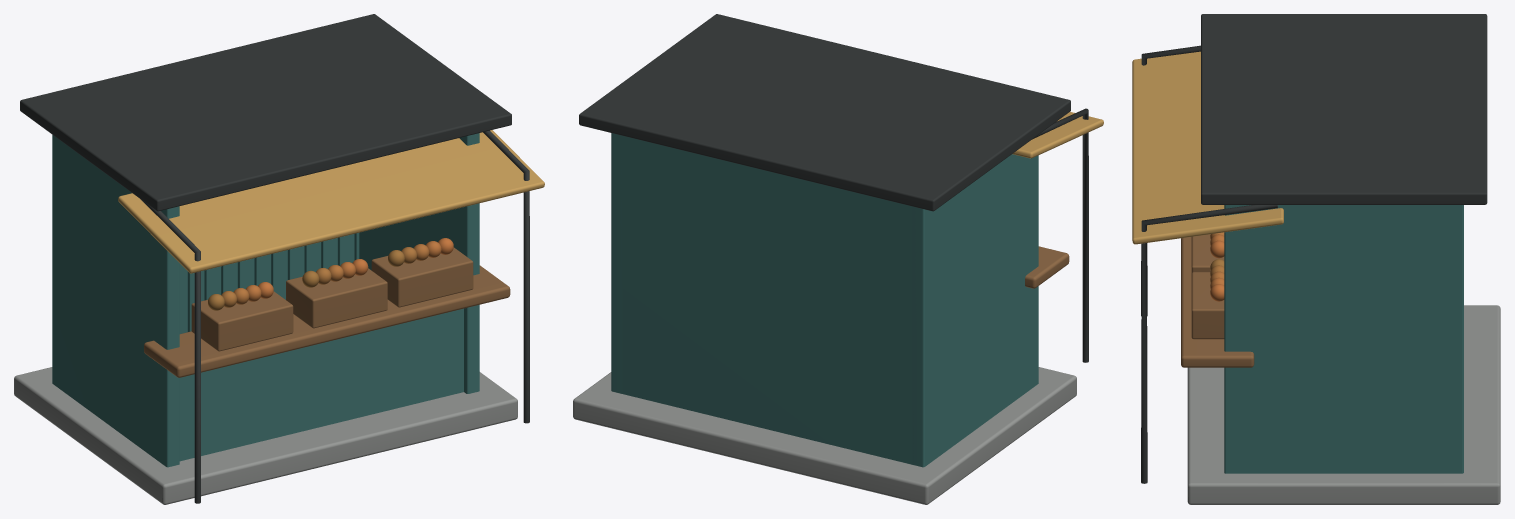
File: lagos-kiosk.glb
3 renders of one model, left to right at view 1: azimuth 30°, elevation 25°; view 2: azimuth 150°, elevation 25°; view 3: azimuth 270°, elevation 25°, orthographic. The views are drawn at different scales.
Visible parts, largest first — view 1: Roof sheet, Kiosk side, Fabric canopy, Front skirt, Kiosk plinth, Service counter, Kiosk side.001, Kiosk rear, Display crate.001, Display crate, Display crate.002, Canopy support (+1 smaller); view 2: Kiosk rear, Roof sheet, Kiosk side, Kiosk plinth, Kiosk side.001, Canopy support, Fabric canopy, Service counter; view 3: Kiosk side.001, Roof sheet, Kiosk plinth, Fabric canopy, Service counter, Canopy support.001, Display crate.002, Display crate.001, Canopy support.
Boxes of the visible parts, x1,y1,x2,y2 form: Roof sheet: (20,14,511,211); Kiosk side: (52,135,179,467); Fabric canopy: (118,130,544,273); Front skirt: (179,308,463,461); Kiosk plinth: (14,367,517,504); Service counter: (144,265,510,377); Kiosk side.001: (359,133,479,393); Kiosk rear: (179,233,359,333); Display crate.001: (286,268,387,328); Display crate: (191,291,293,351); Display crate.002: (371,247,473,307); Canopy support: (140,199,200,503); Kiosk rear: (613,133,921,466); Roof sheet: (579,14,1070,211); Kiosk side: (912,154,1038,467); Kiosk plinth: (573,367,1076,504); Kiosk side.001: (611,133,622,393); Canopy support: (1032,108,1088,362); Fabric canopy: (1012,112,1103,158); Service counter: (1025,246,1069,288); Kiosk side.001: (1224,205,1463,473); Roof sheet: (1201,14,1487,204); Kiosk plinth: (1187,305,1500,504); Fabric canopy: (1132,51,1283,244); Service counter: (1181,237,1254,367); Canopy support.001: (1141,205,1277,483); Display crate.002: (1191,272,1224,339); Display crate.001: (1191,234,1224,272); Canopy support: (1141,45,1200,316).
Size of the model in its own units: 3.2 by 2.59 by 2.76.
